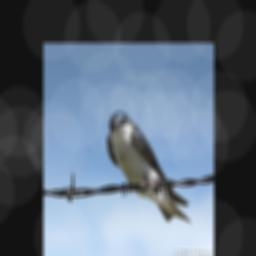Swallow: (106, 111, 190, 223)
